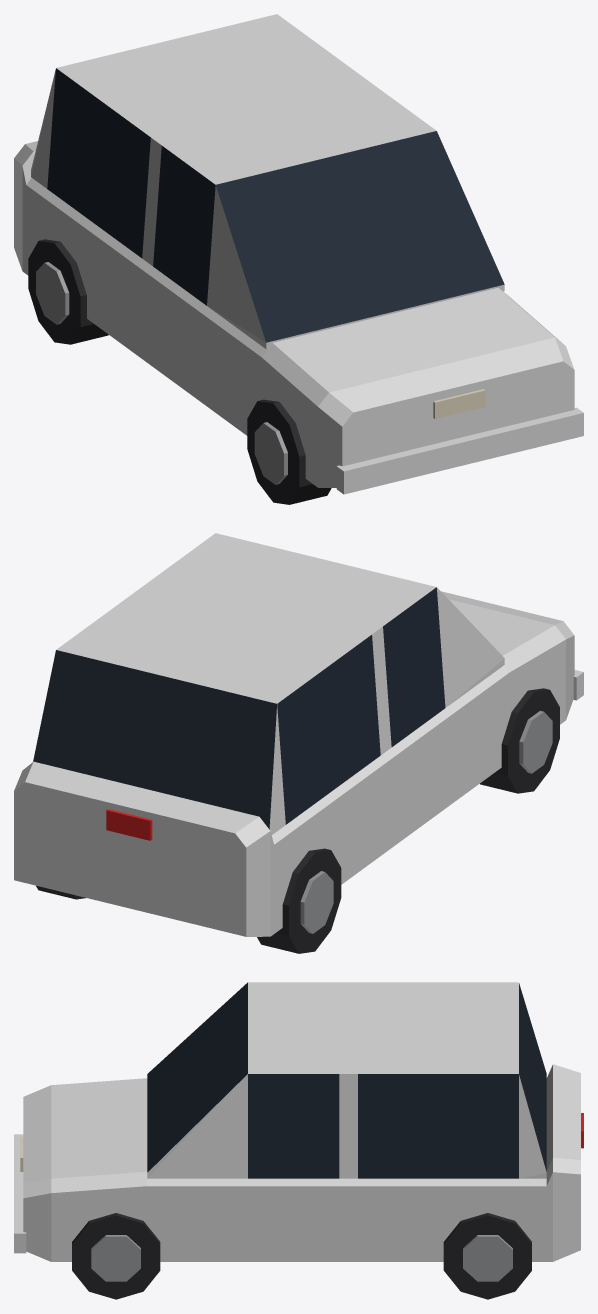
Rendered from voiture_citadine.glb.
3 views of the same model, one above another, from view 1: azimuth 30°, elevation 25°; view 2: azimuth 150°, elevation 25°; view 3: azimuth 270°, elevation 25° (orthographic). The views are drawn at different scales.
Parts seen in each view (by area): view 1: voiture_citadine; view 2: voiture_citadine; view 3: voiture_citadine.
Part boxes in pixels (<box>): voiture_citadine: <box>14,14,583,504</box>; voiture_citadine: <box>14,533,583,953</box>; voiture_citadine: <box>14,982,583,1299</box>.
Size of the model in its own units: 1.7 by 1.55 by 3.68.
